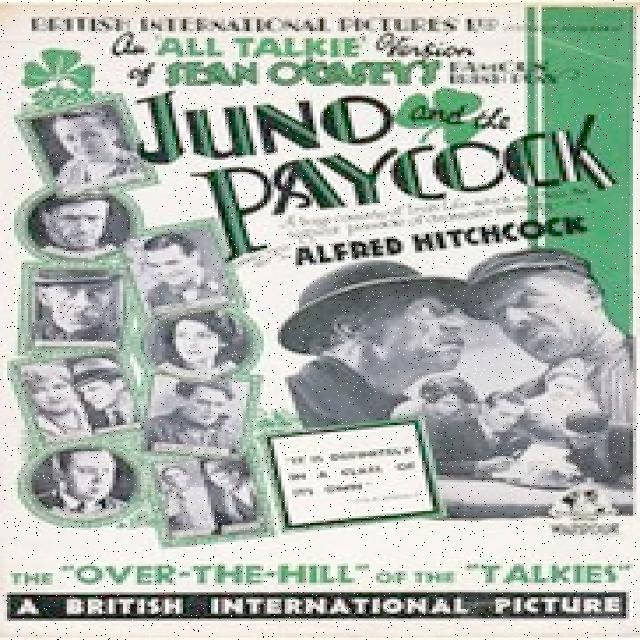movie-judul: (136, 92, 614, 242)
picture: (6, 108, 253, 545), (296, 264, 640, 450)
